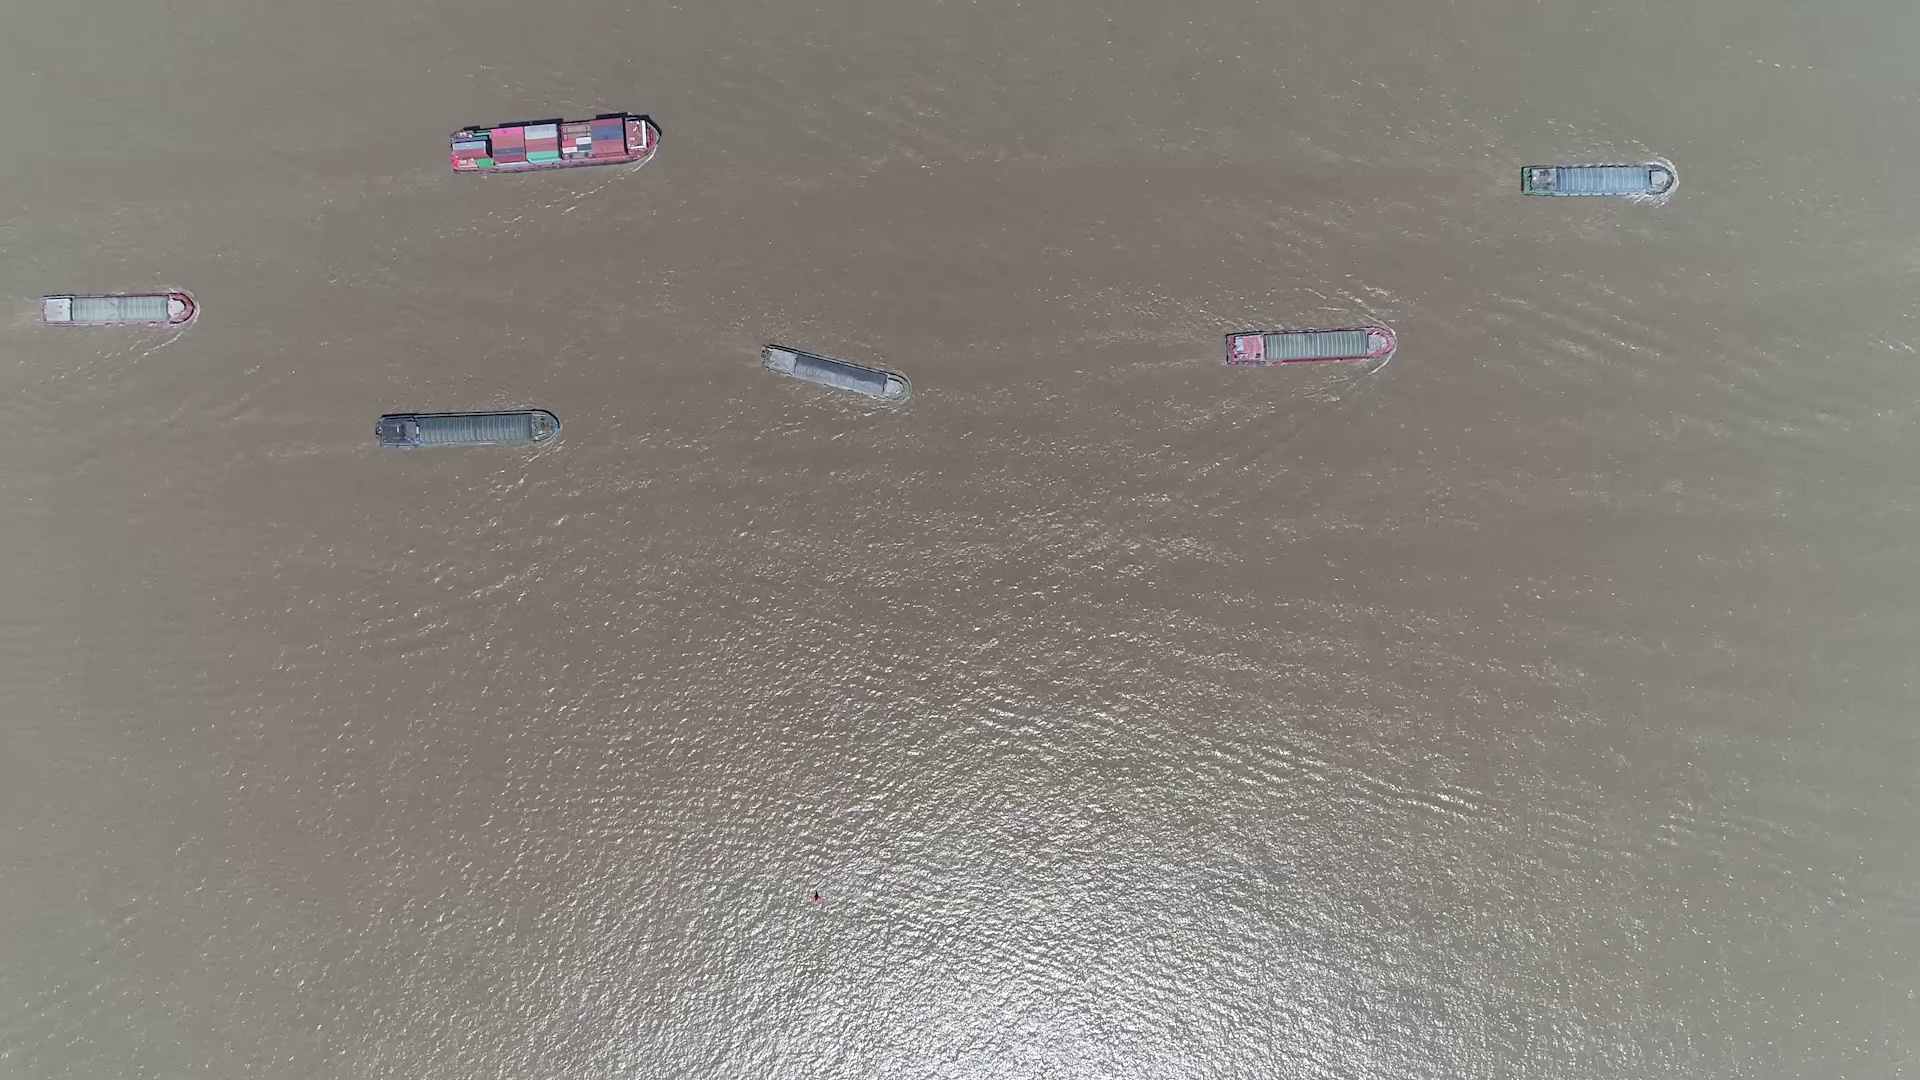ship: (446, 117, 657, 171), (761, 344, 909, 400), (375, 409, 560, 448), (1225, 326, 1396, 365), (40, 291, 195, 324), (1524, 165, 1669, 199)
